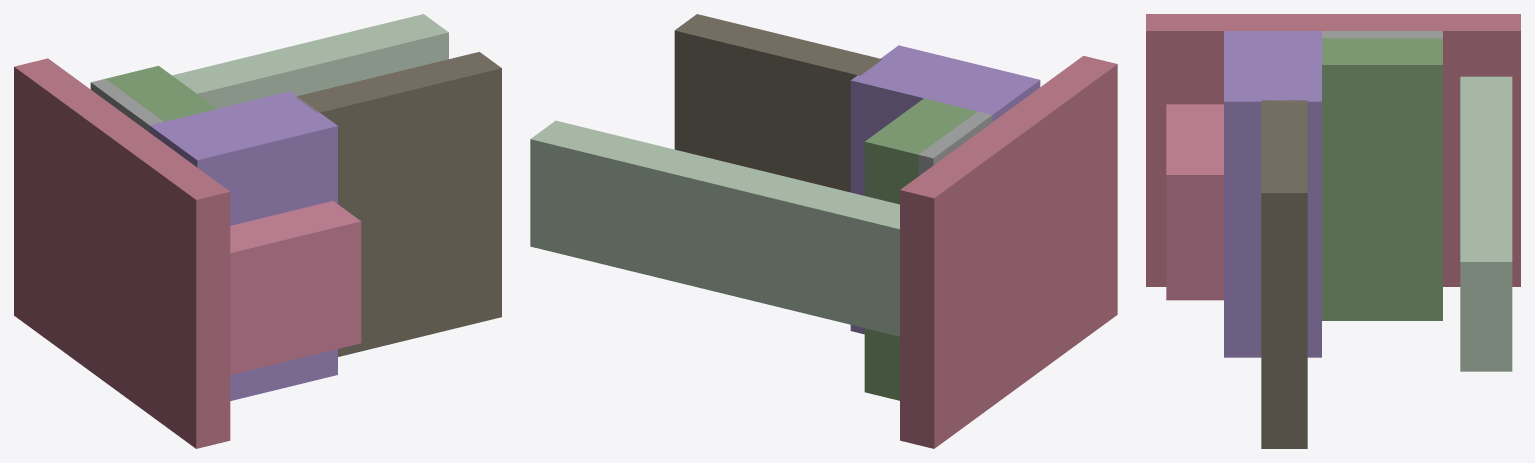
3 renders of one model, left to right at view 1: azimuth 30°, elevation 25°; view 2: azimuth 150°, elevation 25°; view 3: azimuth 270°, elevation 25°, orthographic. The views are drawn at different scales.
Visible parts, largest first — view 1: world; view 2: world; view 3: world.
Boxes of the visible parts, <box> form: world: <box>14,14,501,448</box>; world: <box>530,14,1117,448</box>; world: <box>1146,14,1520,448</box>.
Size of the model in its own units: 8.35 by 4.95 by 6.5.
